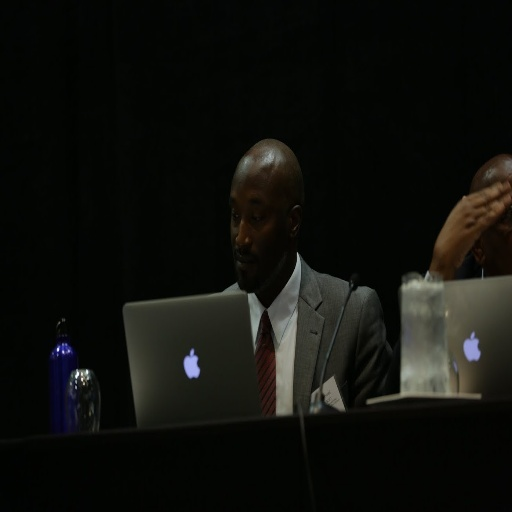hand: (434, 180, 511, 273)
